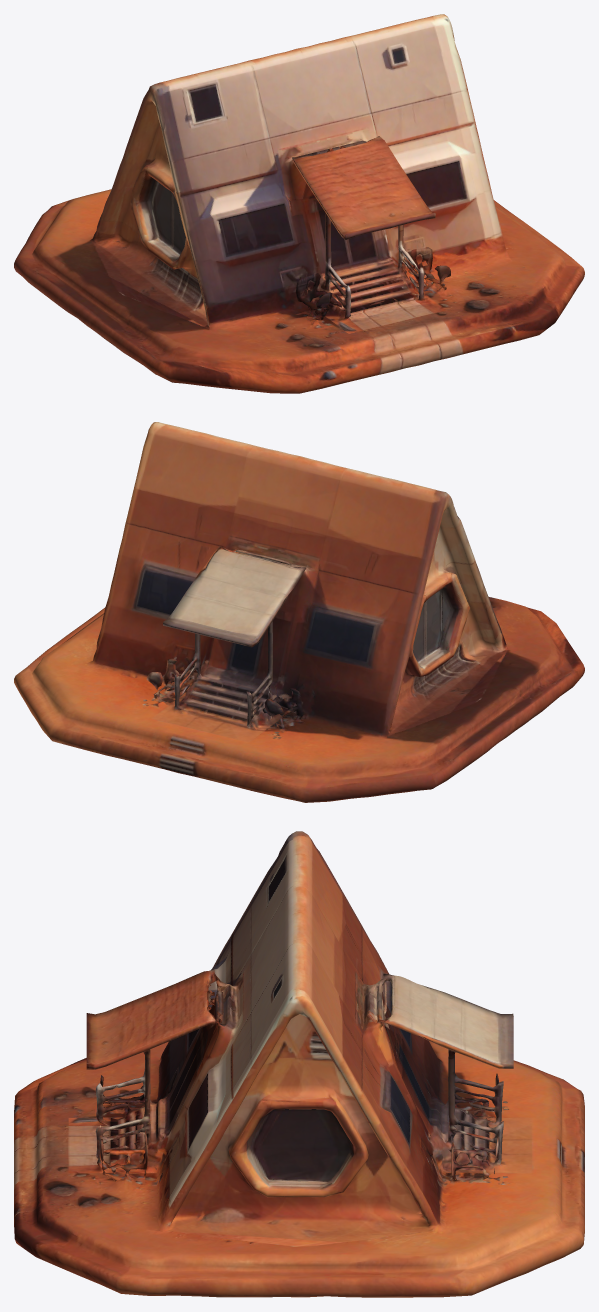
File: house-mars.glb
3 views of the same model, one above another, from view 1: azimuth 30°, elevation 25°; view 2: azimuth 150°, elevation 25°; view 3: azimuth 270°, elevation 25° (orthographic). The views are drawn at different scales.
Bounding box in the file's own units: 2 × 1.03 × 2.
1 material, 1 textured.
